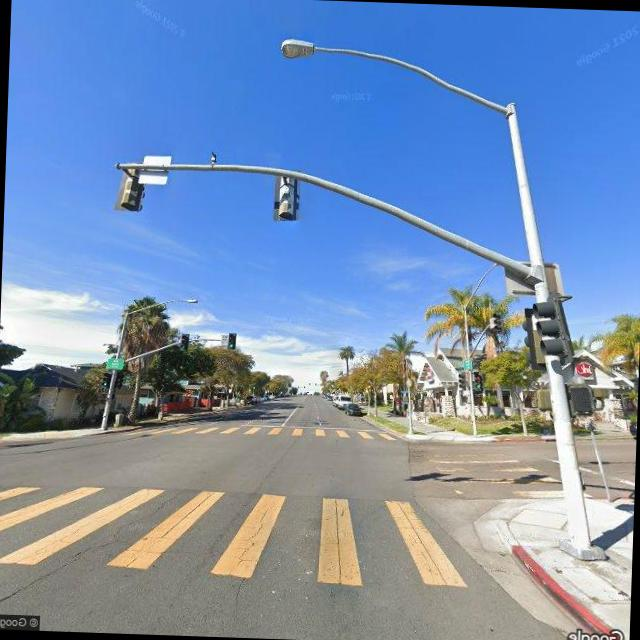crack: (0, 486, 181, 611), (238, 500, 272, 568)
